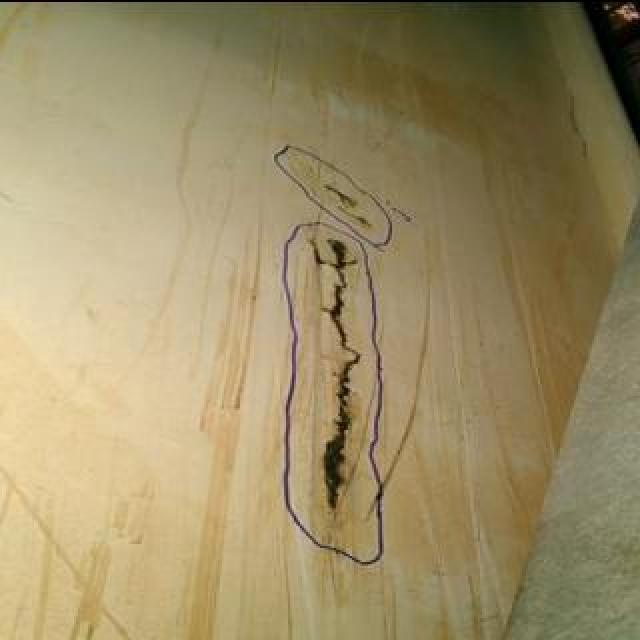crack: (312, 236, 366, 512), (321, 180, 377, 232)
